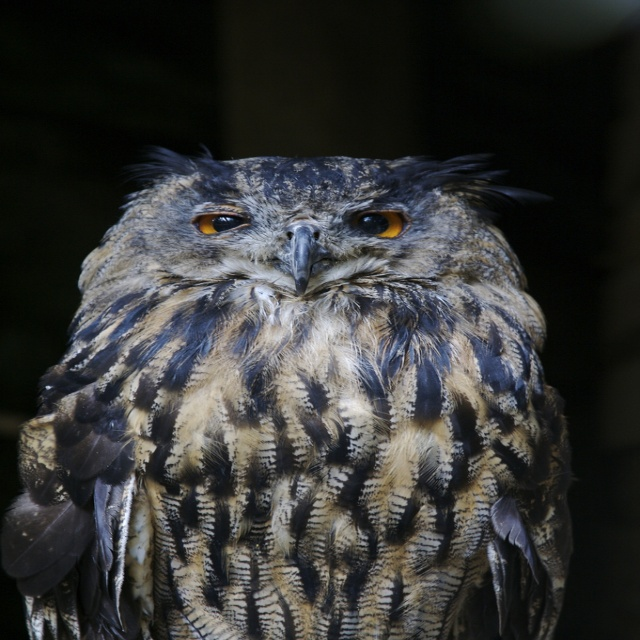Owl: (0, 141, 574, 640)
